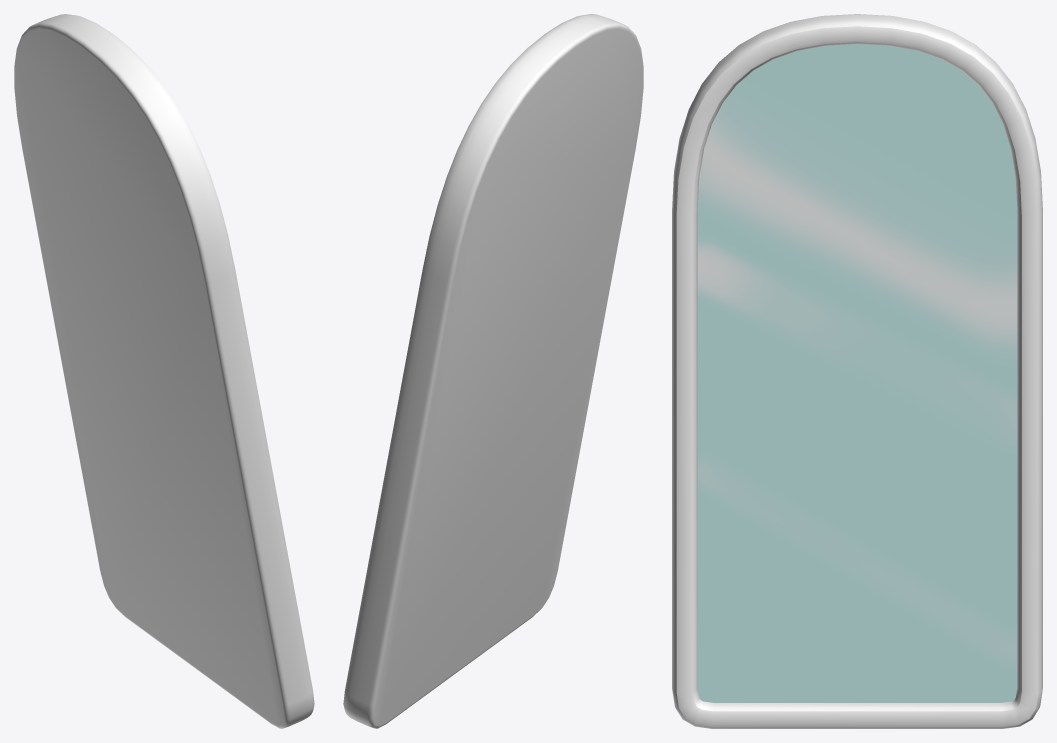
The model's file is 3D_Prop_Mirror.fbx.
The picture shows the model from 3 angles, left to right: view 1: azimuth 30°, elevation 25°; view 2: azimuth 150°, elevation 25°; view 3: azimuth 270°, elevation 25°; orthographic projection.
Visible parts, largest first — view 1: Mirror; view 2: Mirror; view 3: Mirror.
Part boxes in pixels (x1=…): Mirror: x1=14, y1=14, x2=314, y2=728; Mirror: x1=343, y1=14, x2=643, y2=728; Mirror: x1=672, y1=14, x2=1042, y2=728.
Bounding box in the file's own units: 123 × 532 × 272.
Materials: 2 (2 with a texture image).
